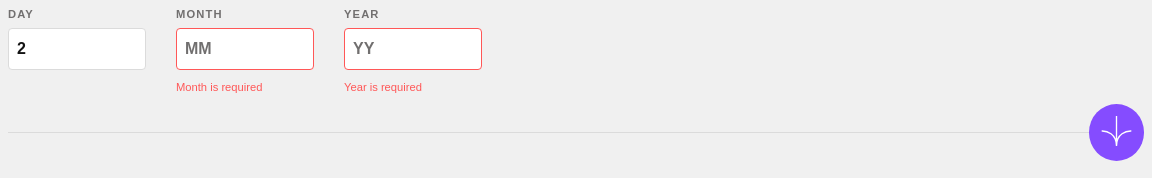
CalculatorForm › Input day show error msg when entered string
Step 1. Replace the text in the field with id "age-day" with "ads" → (77, 49), box [8, 28, 146, 70]
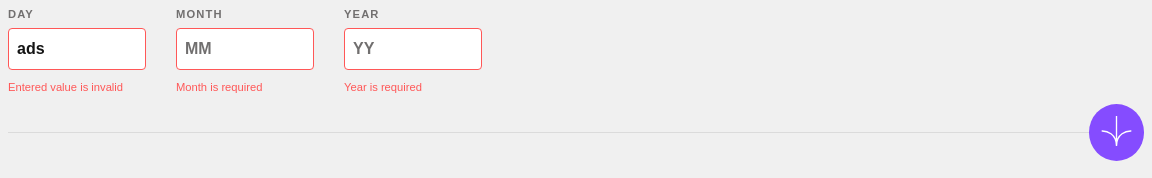
Expected: the text with class "input-error--day" reads "Entered value is invalid", [8, 81, 123, 93]
